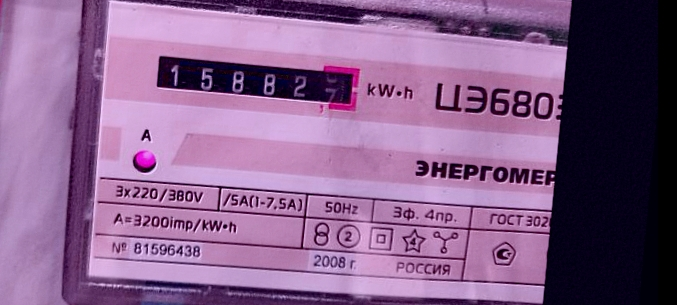1: (167, 61, 181, 88)
2: (290, 73, 309, 99)
5: (198, 65, 214, 92)
7: (321, 84, 338, 103)
8: (229, 68, 247, 94), (260, 71, 278, 97)
screen: (145, 43, 368, 120)
